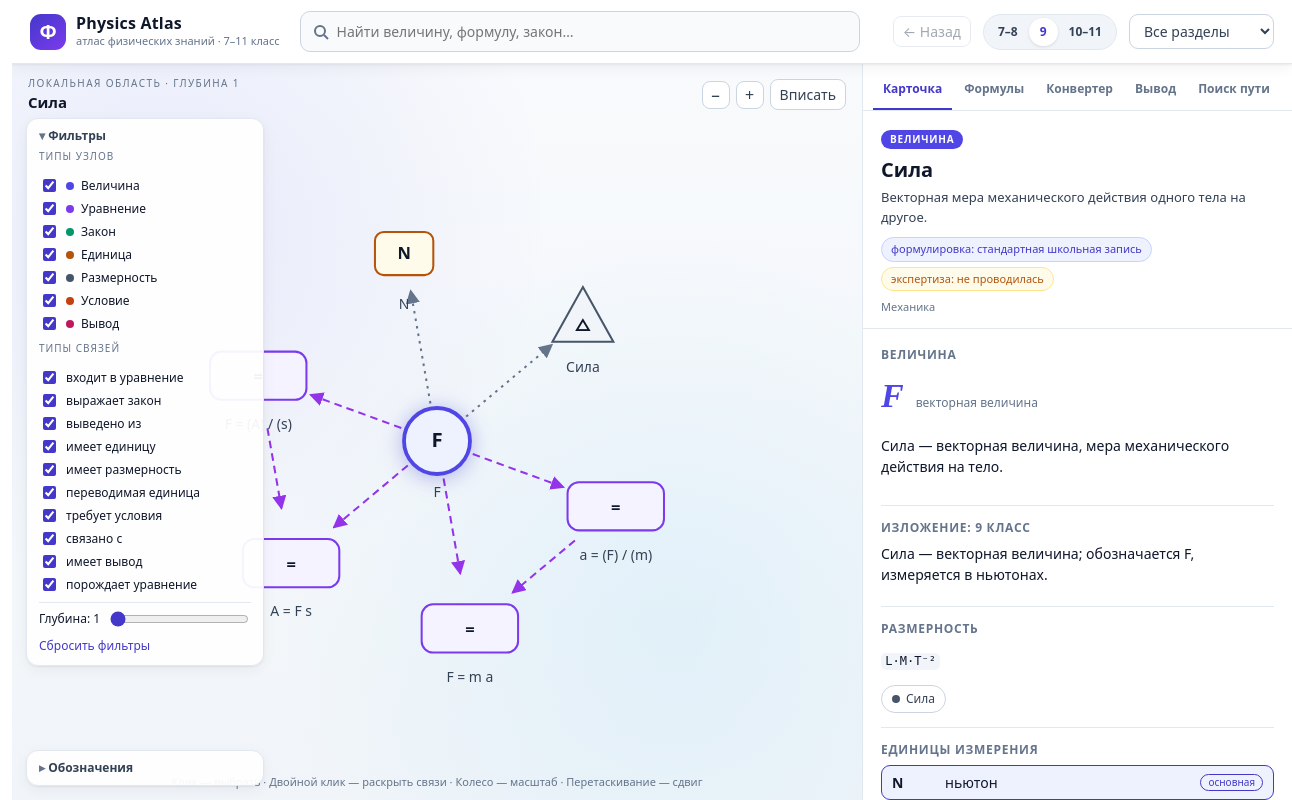
Scenario: atlas application › marks the path invalid when a condition is violated
Click the tab "Поиск пути" at point(1234, 91), box [1188, 72, 1280, 110]
(page scrolled)
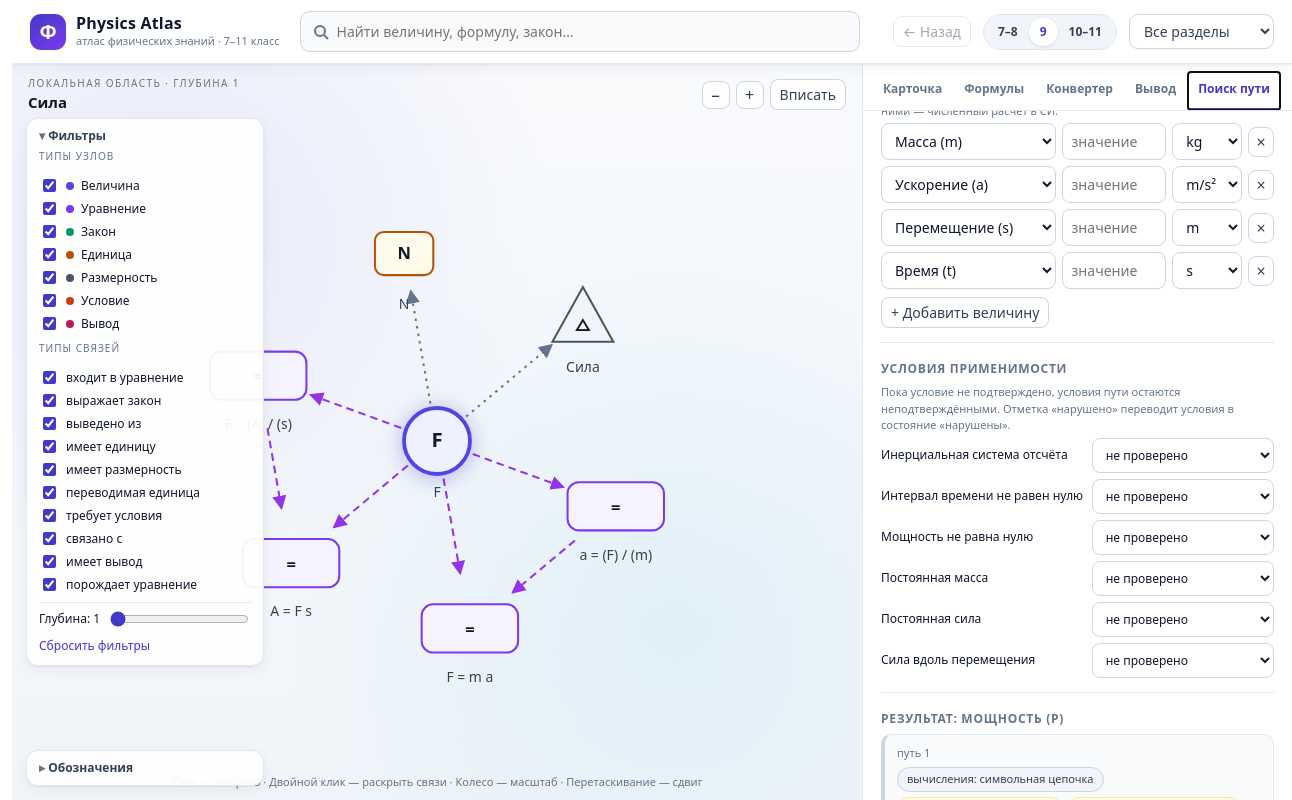
Select "нарушено" in the dropdown named "Статус условия «Инерциальная система отсчёта»" at point(1183, 455), box [1092, 438, 1274, 472]
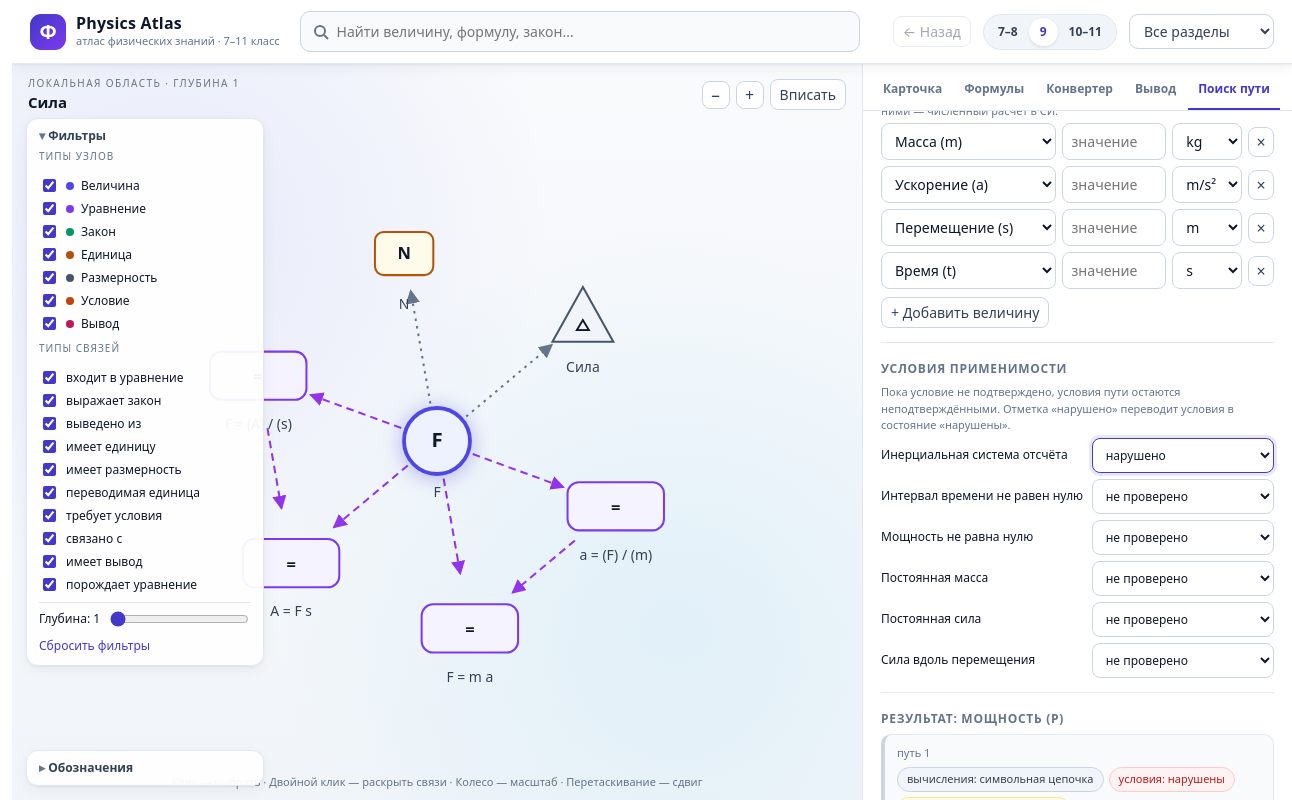
Check: the text "условия: нарушены" is shown, box [1108, 767, 1235, 792]
